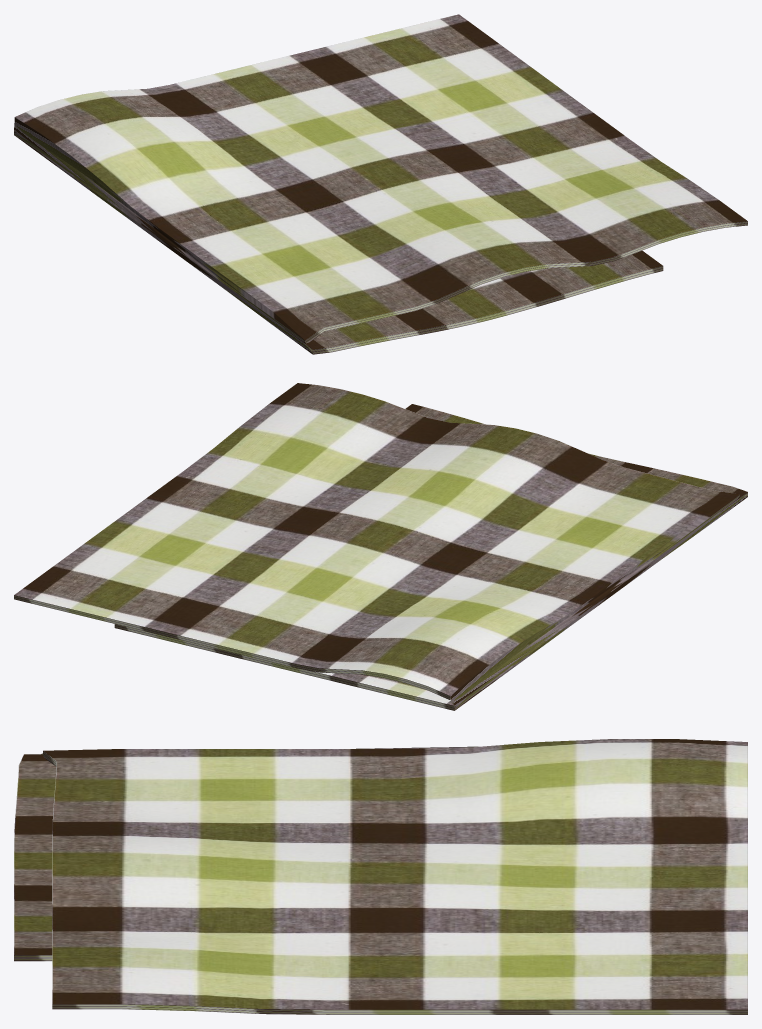
The model's file is Handkerchief_down.FBX.
3 renders of one model, top to bottom at view 1: azimuth 30°, elevation 25°; view 2: azimuth 150°, elevation 25°; view 3: azimuth 270°, elevation 25°, orthographic. The views are drawn at different scales.
Parts seen in each view (by area): view 1: Box003; view 2: Box003; view 3: Box003.
Part boxes in pixels (<box>): Box003: <box>14,14,747,354</box>; Box003: <box>14,383,747,710</box>; Box003: <box>14,739,747,1014</box>.
Bounding box in the file's own units: 60.2 × 4.09 × 71.15.
Materials: 1 (1 with a texture image).
